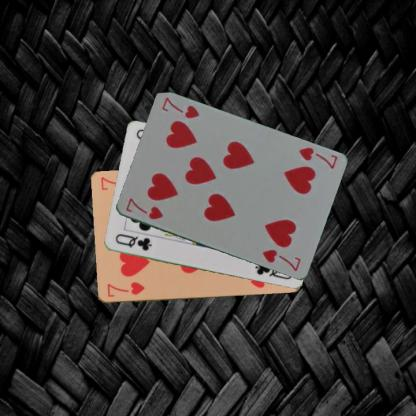7h: (122, 196, 164, 222), (296, 144, 338, 170), (104, 280, 146, 298)
Qc: (112, 231, 153, 253)
